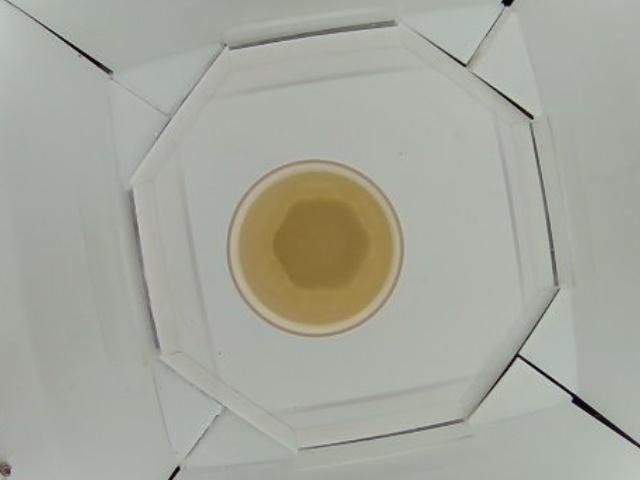Cup: (225, 159, 404, 335)
